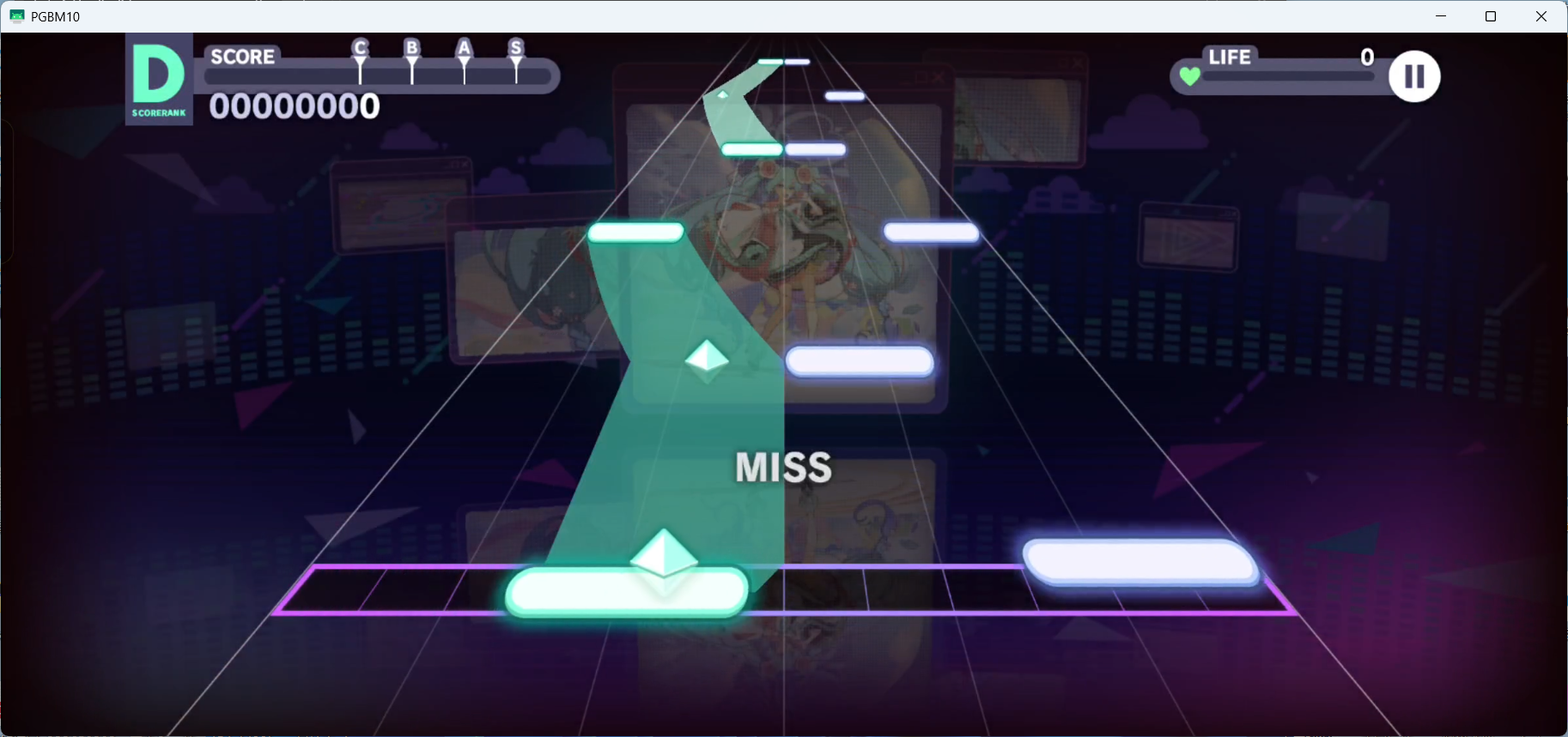hold: (545, 245, 786, 566), (702, 65, 780, 143)
sweep: (631, 528, 700, 601), (685, 341, 728, 384), (717, 90, 728, 101)
tap: (504, 567, 747, 618), (1024, 539, 1261, 589), (787, 346, 935, 379), (587, 220, 683, 243), (884, 222, 980, 244), (785, 142, 846, 156), (720, 143, 782, 155), (824, 91, 864, 100), (785, 57, 810, 65), (757, 58, 782, 64)
